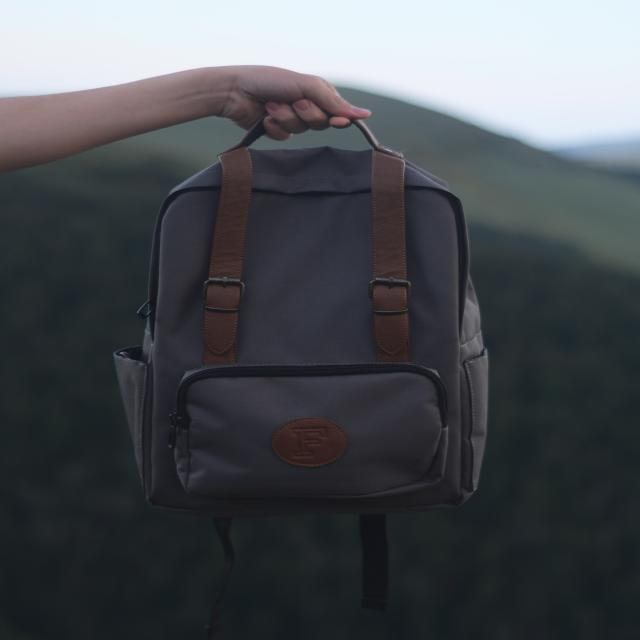backpack: (102, 106, 488, 513)
